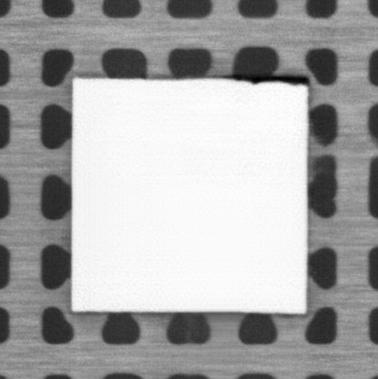DIE_BROKEN: (222, 72, 312, 88)
